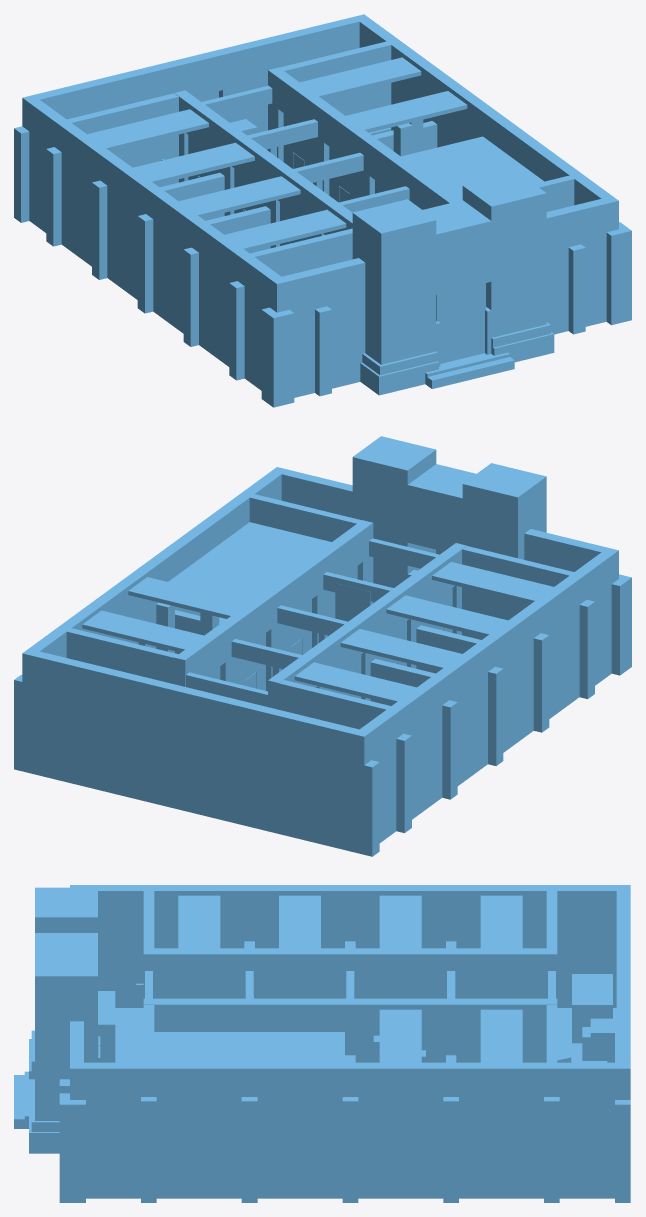
Rendered from ThePit_PHYS.dae.
3 views of the same model, one above another, from view 1: azimuth 30°, elevation 25°; view 2: azimuth 150°, elevation 25°; view 3: azimuth 270°, elevation 25° (orthographic). The views are drawn at different scales.
Parts seen in each view (by area): view 1: G_Tower_W_PHYS, G_Wall_W_PHYS, G_Tower_E_PHYS, G_Wall_E_PHYS, C01_Wall_PHYS, C02_Wall_PHYS, C04_Wall_PHYS, C03_Wall_PHYS, N_Back_C_PHYS, G_Arch_PHYS, N_Wall_W_PHYS, V_Wall_W_PHYS (+42 smaller); view 2: N_Back_C_PHYS, N_Back_W_PHYS, N_Back_E_PHYS, G_Tower_E_PHYS, C05_Roof_PHYS, G_Tower_W_PHYS, C01_Wall_PHYS, C04_Wall_PHYS, C02_Wall_PHYS, C03_Wall_PHYS, N_Wall_W_PHYS, G_Wall_W_PHYS (+42 smaller); view 3: C05_Wall_PHYS, C07_Wall_PHYS, C08_Wall_PHYS, N_Wall_E_PHYS, V_Wall_E_PHYS, G_Tower_E_PHYS, N_Wall_W_PHYS, C05_Roof_PHYS, V_Wall_W_PHYS, C03_Wall_PHYS, C02_Wall_PHYS, G_Wall_E_PHYS (+41 smaller).
Part boxes in pixels (x1,y1,x2,y2): G_Tower_W_PHYS: (352, 199, 440, 395); G_Wall_W_PHYS: (261, 258, 365, 407); G_Tower_E_PHYS: (462, 172, 554, 362); G_Wall_E_PHYS: (546, 196, 631, 334); C01_Wall_PHYS: (183, 221, 251, 366); C02_Wall_PHYS: (137, 188, 205, 333); C04_Wall_PHYS: (46, 121, 114, 266); C03_Wall_PHYS: (92, 155, 160, 299); N_Back_C_PHYS: (131, 41, 261, 132); G_Arch_PHYS: (423, 200, 491, 294); N_Wall_W_PHYS: (14, 95, 68, 232); V_Wall_W_PHYS: (229, 255, 281, 390); N_Back_C_PHYS: (131, 675, 261, 827); N_Back_W_PHYS: (255, 705, 359, 851); N_Back_E_PHYS: (33, 651, 136, 797); G_Tower_E_PHYS: (352, 436, 436, 602); C05_Roof_PHYS: (168, 522, 331, 601); G_Tower_W_PHYS: (462, 463, 546, 559); C01_Wall_PHYS: (526, 574, 582, 732); C04_Wall_PHYS: (389, 674, 445, 833); C02_Wall_PHYS: (481, 607, 537, 765); C03_Wall_PHYS: (435, 641, 491, 799); N_Wall_W_PHYS: (353, 708, 399, 856); G_Wall_W_PHYS: (524, 529, 631, 675); C05_Wall_PHYS: (149, 1062, 358, 1202); C07_Wall_PHYS: (350, 1062, 458, 1202); C08_Wall_PHYS: (451, 1062, 559, 1202); N_Wall_E_PHYS: (552, 1062, 630, 1202); V_Wall_E_PHYS: (84, 1062, 156, 1202); G_Tower_E_PHYS: (29, 947, 97, 1153); N_Wall_W_PHYS: (552, 885, 630, 1007); C05_Roof_PHYS: (154, 1032, 344, 1062); V_Wall_W_PHYS: (84, 885, 148, 1007); C03_Wall_PHYS: (350, 885, 451, 948); C02_Wall_PHYS: (249, 885, 350, 948); G_Wall_E_PHYS: (59, 1021, 85, 1202).
Bounding box in the file's own units: 26 × 35.27 × 11.
